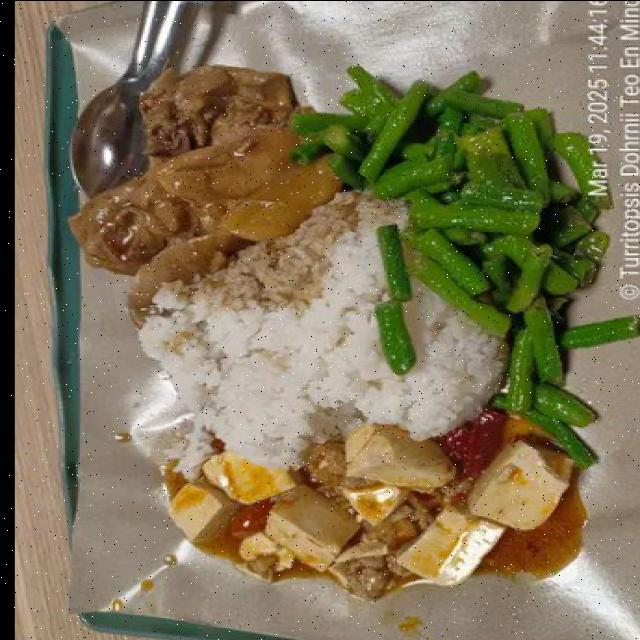Green veg: (293, 66, 638, 466)
Pork: (341, 489, 436, 598), (330, 557, 390, 598), (306, 438, 343, 488), (373, 518, 417, 547)
Rice: (139, 194, 503, 478)
Tofu: (467, 439, 571, 530), (397, 507, 505, 584), (267, 485, 358, 563), (349, 428, 454, 488), (202, 451, 295, 502), (169, 482, 237, 542), (241, 531, 275, 560)
